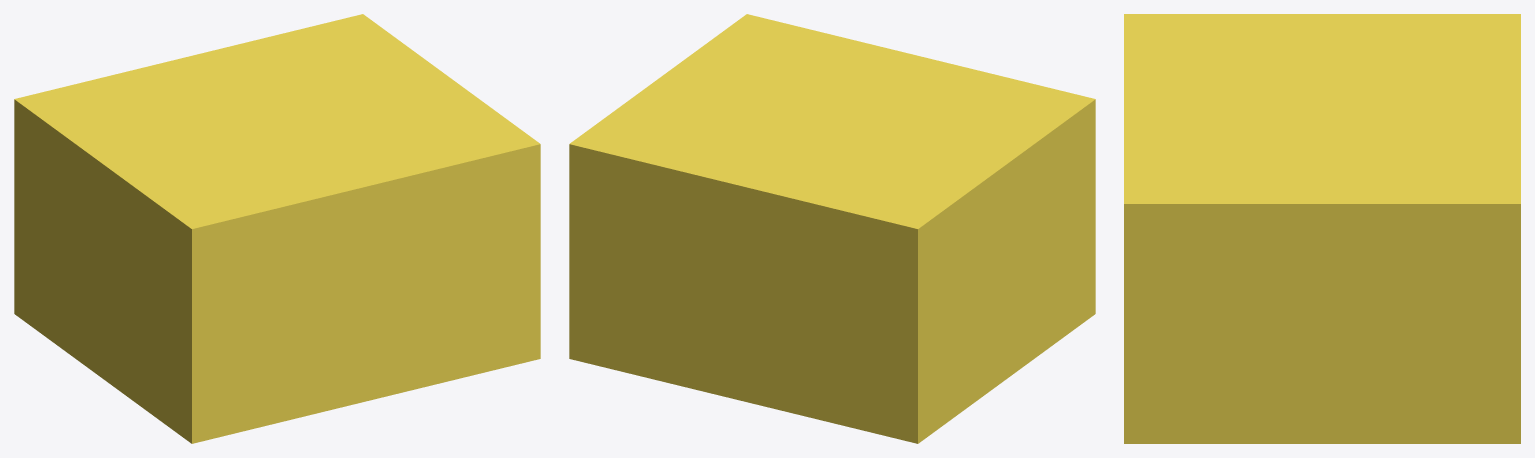
File: product_cheese.glb
3 renders of one model, left to right at view 1: azimuth 30°, elevation 25°; view 2: azimuth 150°, elevation 25°; view 3: azimuth 270°, elevation 25°, orthographic. The views are drawn at different scales.
Visible parts, largest first — view 1: body.006; view 2: body.006; view 3: body.006.
Part boxes in pixels (box(x1,y1,x2,y2)): body.006: box(14, 14, 540, 443); body.006: box(569, 14, 1095, 443); body.006: box(1124, 14, 1520, 443).
Size of the model in its own units: 0.34 by 0.2 by 0.3.
